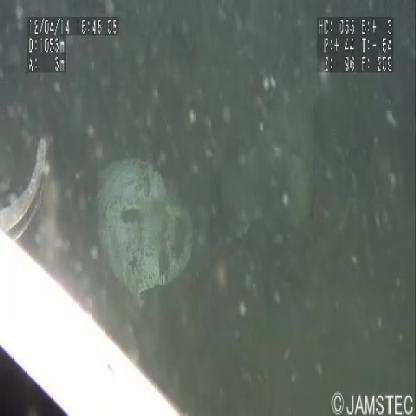Rác: (92, 156, 194, 316)
